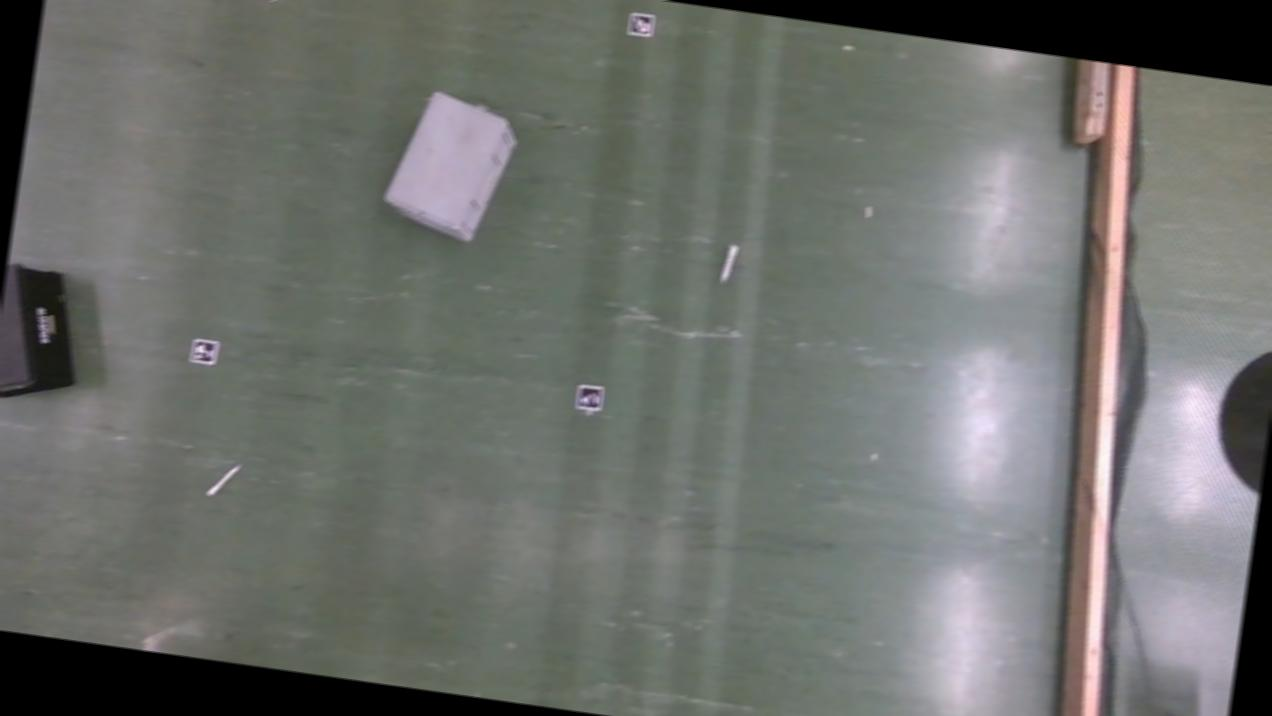probes: (208, 462, 238, 500), (721, 245, 737, 284)
rako: (379, 88, 522, 250), (0, 263, 88, 409)
